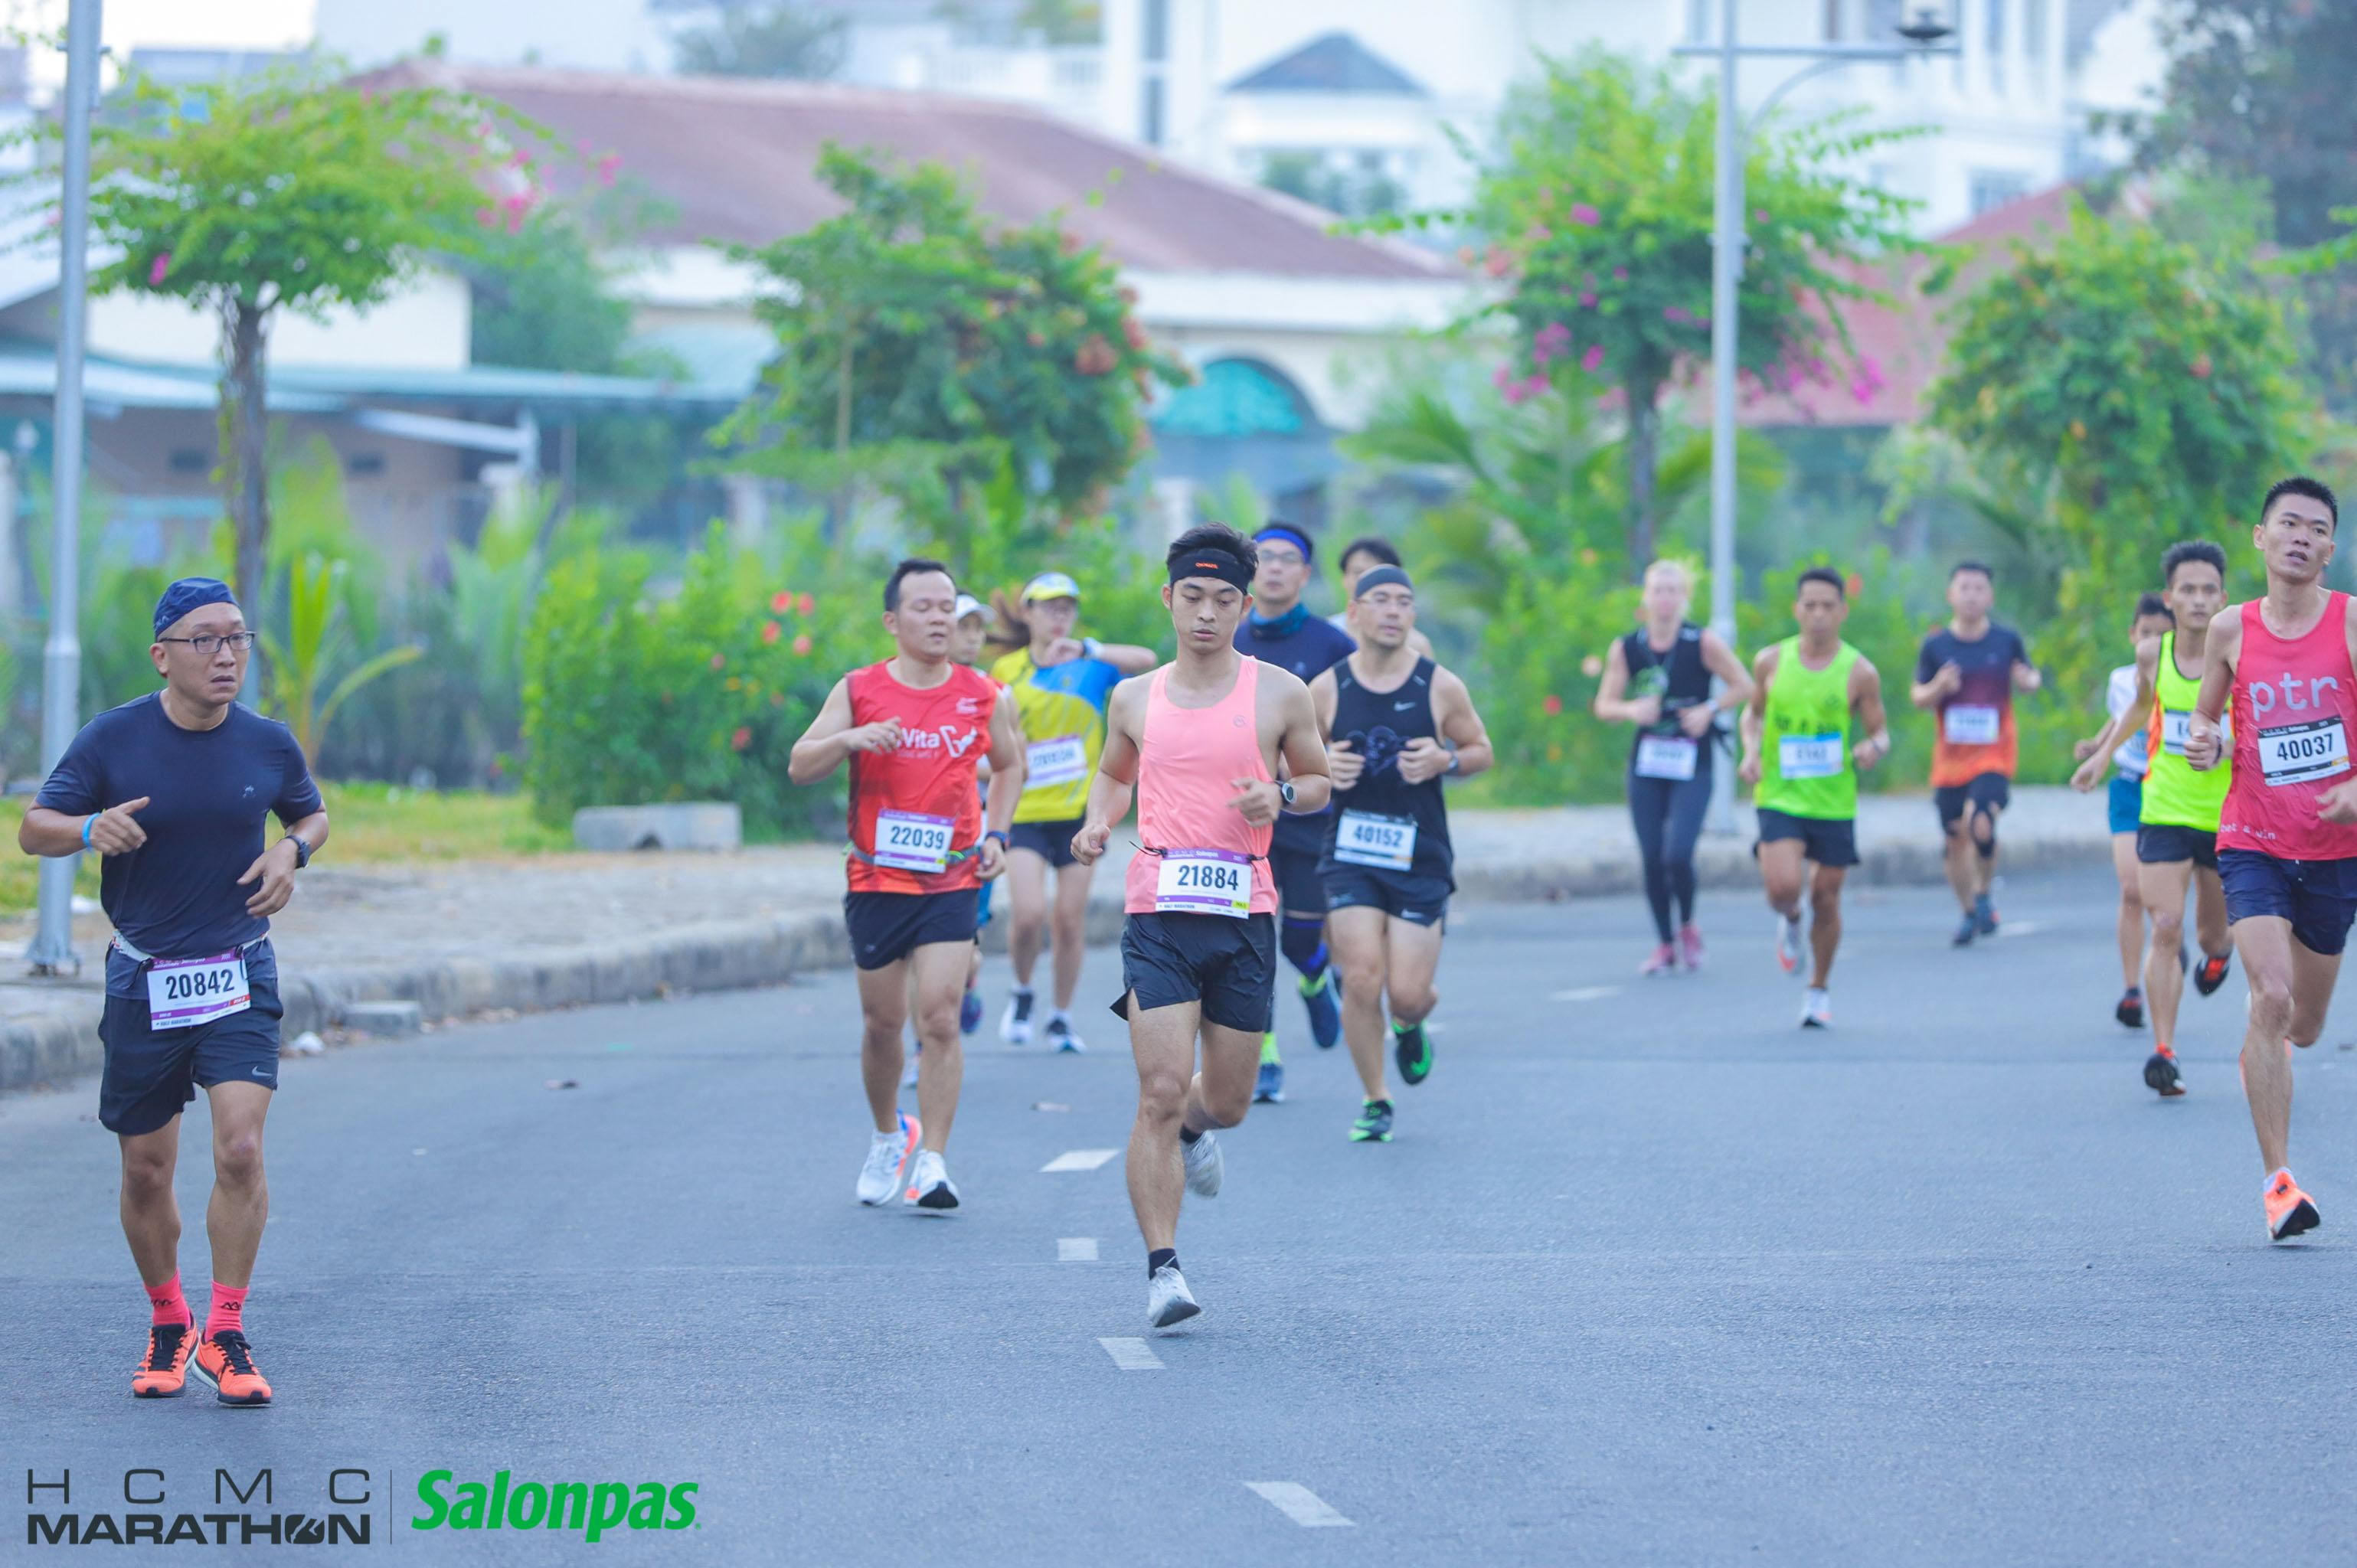bib: (142, 950, 254, 1029), (1155, 852, 1249, 922), (1335, 805, 1416, 875), (2259, 724, 2350, 784), (870, 815, 957, 873), (1638, 733, 1697, 777), (1027, 740, 1092, 779), (1780, 740, 1844, 777), (1946, 703, 2000, 744)
